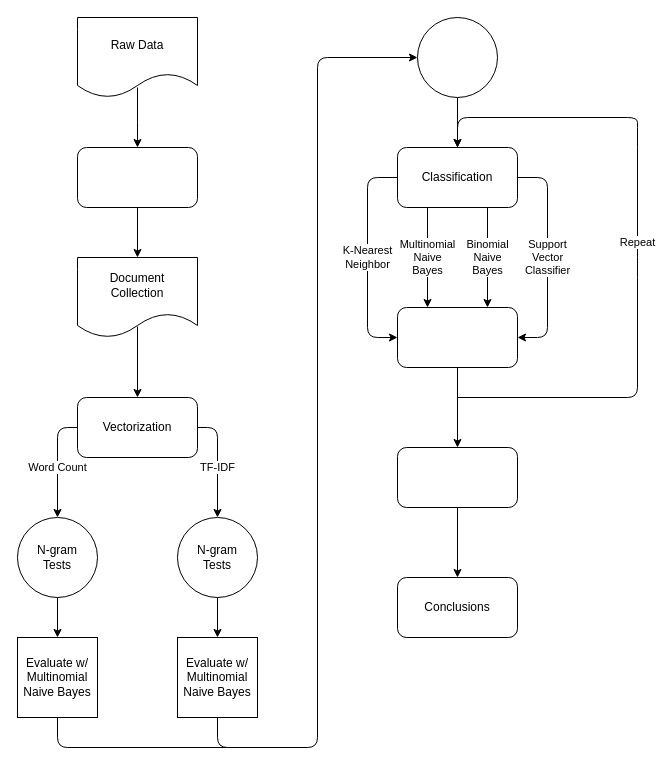
Some shapes in this 672 by 773 pixel diagram are drawn without their labels. The box of each missing label's shape, as (x1, y1, x2, y2) in pixels:
Classifier Evaluation: (396, 446, 518, 508)
Data Cleaning: (76, 146, 198, 208)
Evaluate Stemming: (416, 16, 498, 98)
Hyper Parameter Tuning: (396, 306, 518, 368)
